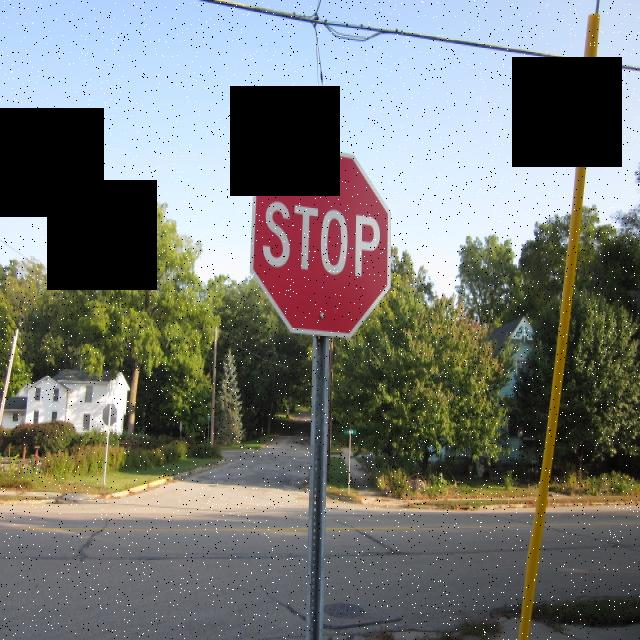stop: (247, 142, 393, 339)
